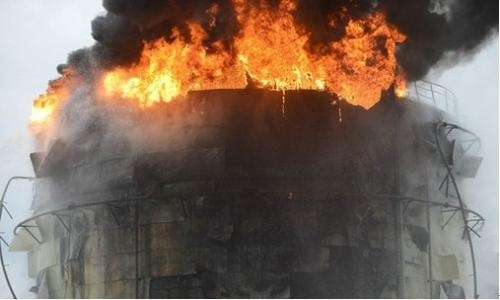fire: (93, 0, 428, 118), (30, 66, 79, 126)
